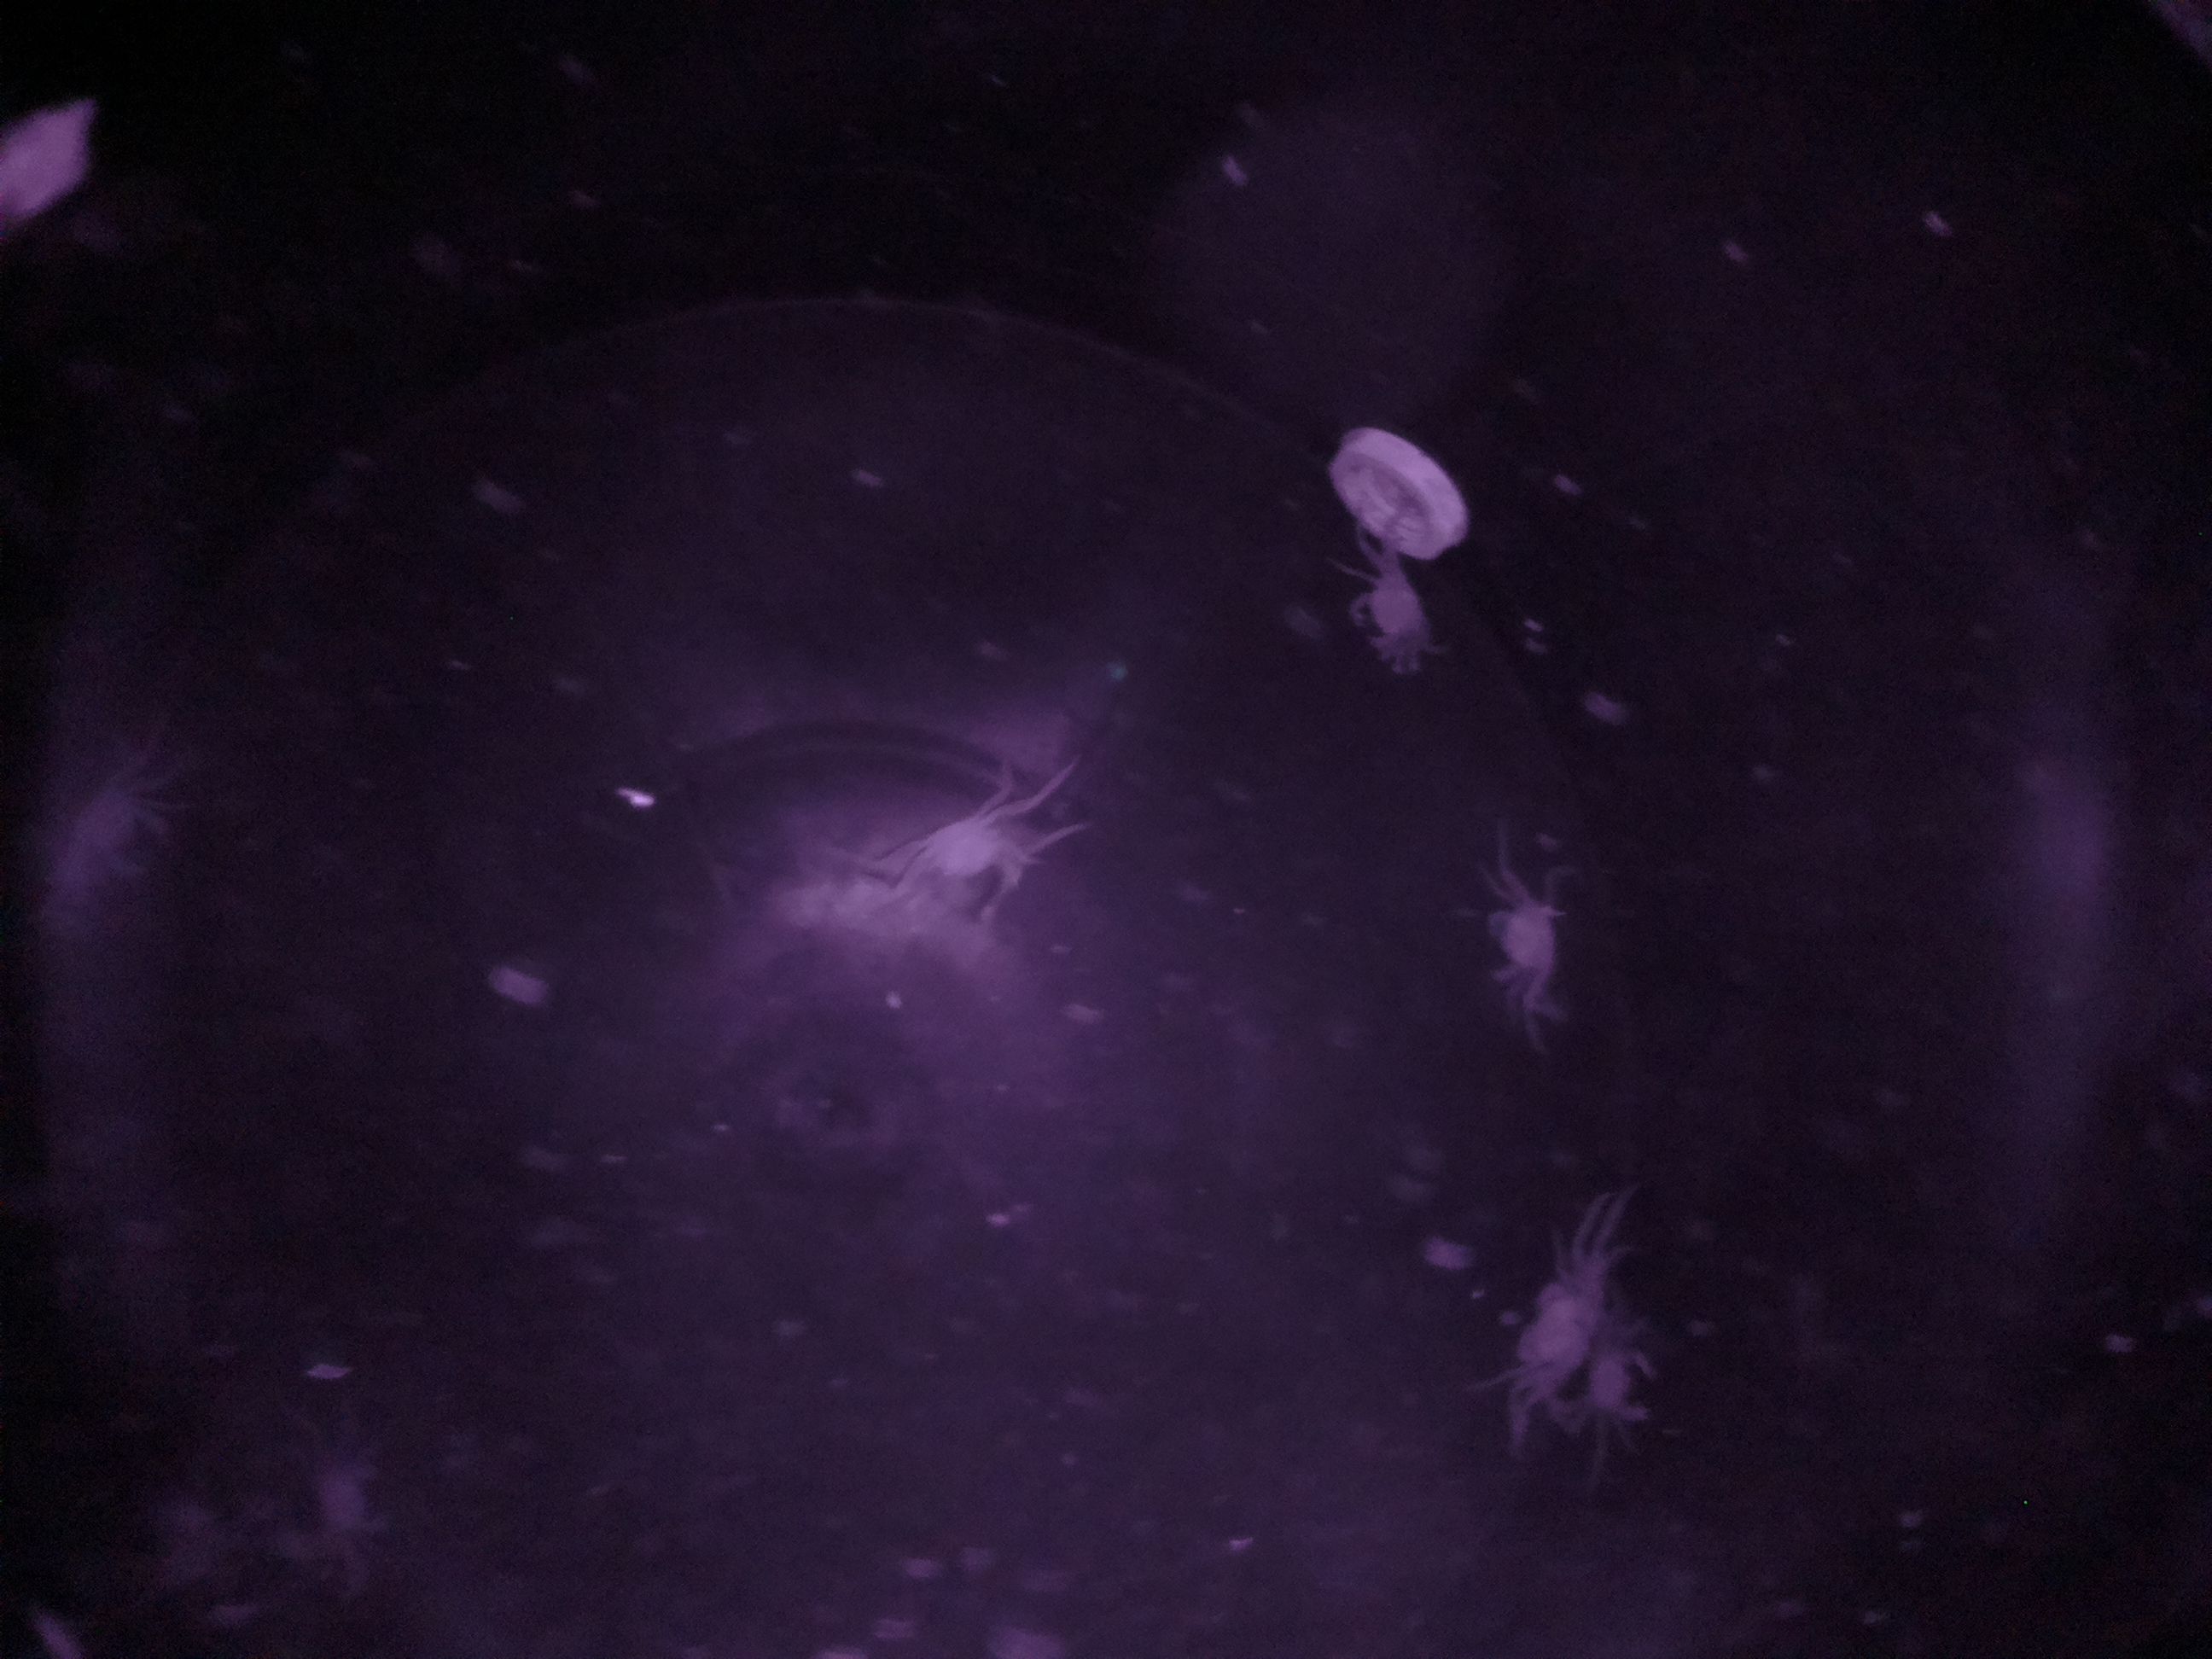Crab: (1336, 551, 1447, 680)
